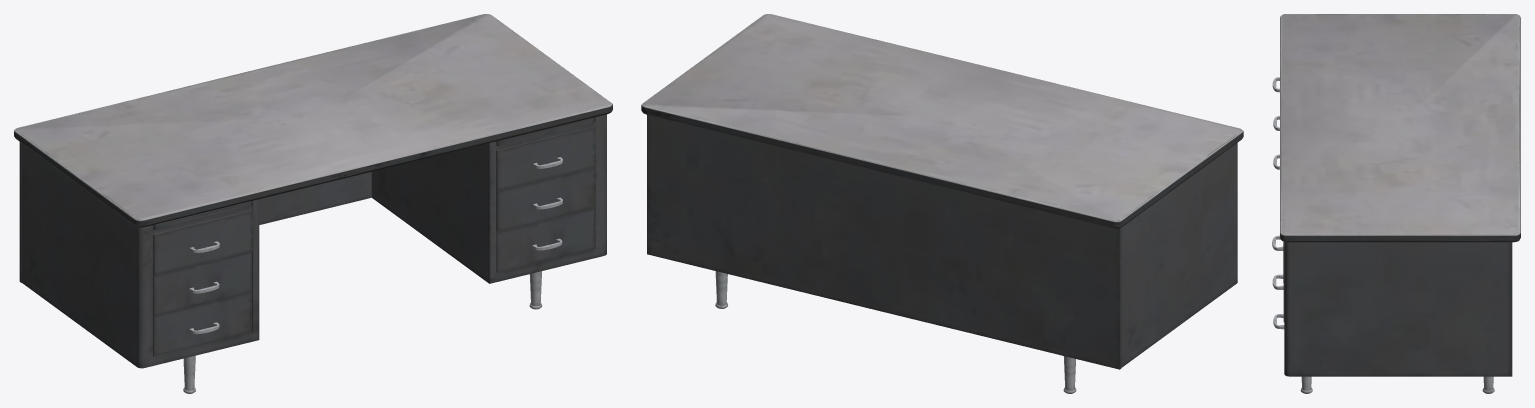
Rendered from desk.glb.
3 renders of one model, left to right at view 1: azimuth 30°, elevation 25°; view 2: azimuth 150°, elevation 25°; view 3: azimuth 270°, elevation 25°, orthographic. The views are drawn at different scales.
Parts seen in each view (by area): view 1: metal_office_desk, metal_office_desk_drawer_04, metal_office_desk_drawer_01, metal_office_desk_drawer_02, metal_office_desk_drawer_03, metal_office_desk_drawer_06, metal_office_desk_drawer_05, metal_office_desk_tray_01, metal_office_desk_tray_02; view 2: metal_office_desk; view 3: metal_office_desk.
Boxes of the visible parts, x1,y1,x2,y2 form: metal_office_desk: (14,14,612,393); metal_office_desk_drawer_04: (153,210,252,275); metal_office_desk_drawer_01: (496,126,595,191); metal_office_desk_drawer_02: (496,167,595,231); metal_office_desk_drawer_03: (496,208,594,272); metal_office_desk_drawer_06: (153,292,251,356); metal_office_desk_drawer_05: (153,252,251,315); metal_office_desk_tray_01: (153,201,251,230); metal_office_desk_tray_02: (496,117,594,146); metal_office_desk: (641,14,1243,393); metal_office_desk: (1280,14,1520,393).
Size of the model in its own units: 2 by 0.7875 by 0.9472.
1 material, 1 textured.
